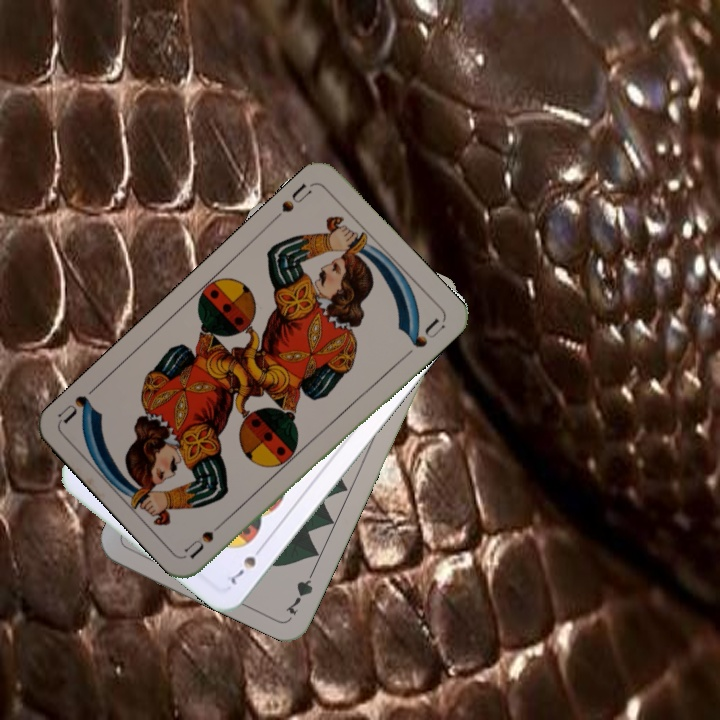G7: (281, 562, 319, 618)
S7: (226, 540, 267, 587)
SU: (180, 513, 232, 561), (269, 179, 317, 224)
